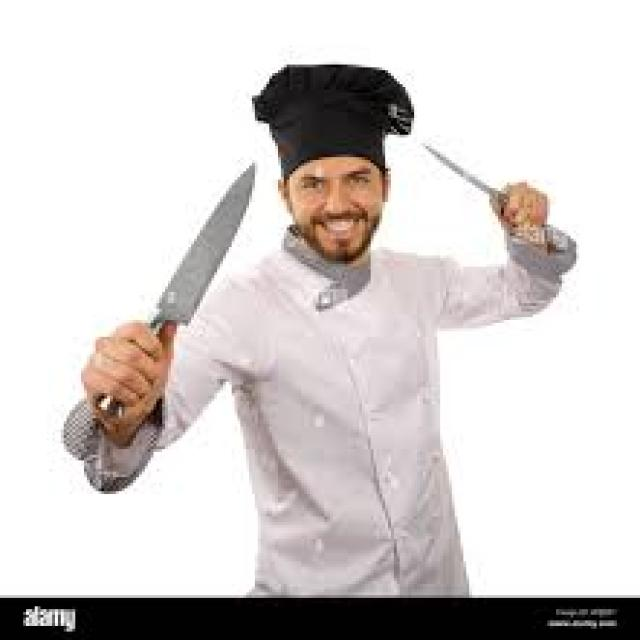Knife: (95, 160, 255, 421)
